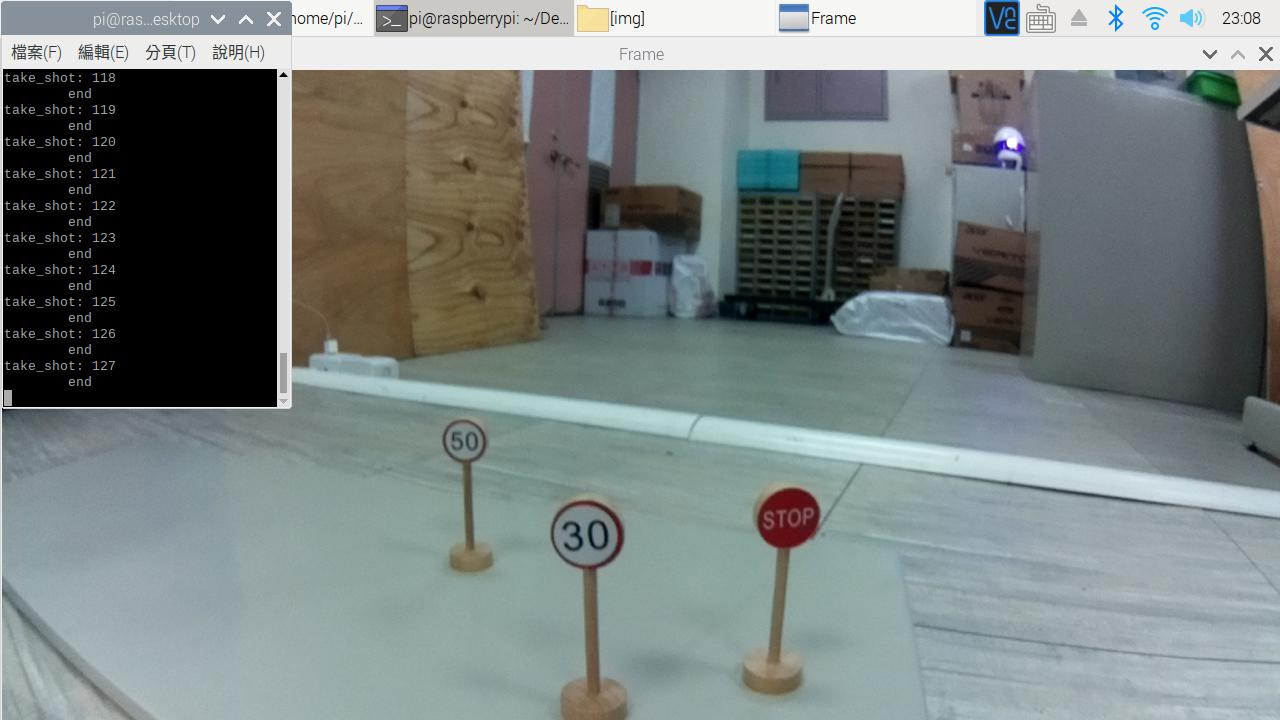Speed30: (543, 495, 634, 574)
Speed50: (437, 412, 499, 468)
Stop: (743, 485, 838, 562)
